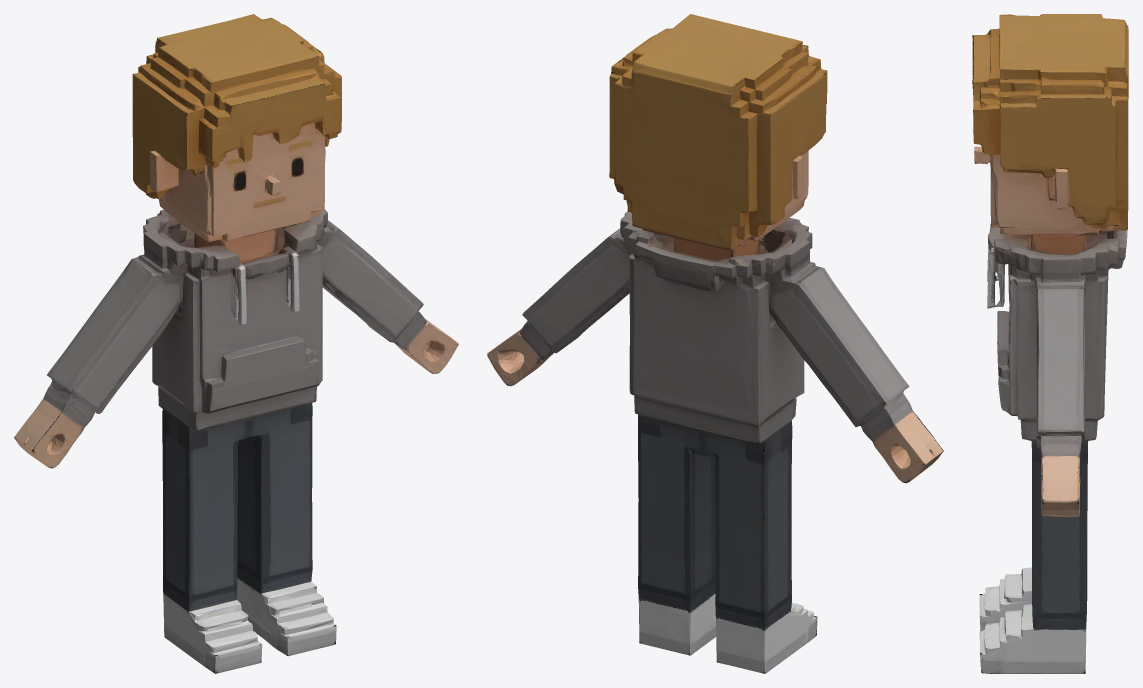
File: avatar-cristian.glb
3 views of the same model, side by side, from view 1: azimuth 30°, elevation 25°; view 2: azimuth 150°, elevation 25°; view 3: azimuth 270°, elevation 25° (orthographic). The views are drawn at different scales.
Parts seen in each view (by area): view 1: Cristian_Avatar; view 2: Cristian_Avatar; view 3: Cristian_Avatar.
Part boxes in pixels (x1,y1,x2,y2): Cristian_Avatar: (14,14,458,673); Cristian_Avatar: (487,14,943,673); Cristian_Avatar: (972,14,1128,673).
Bounding box in the file's own units: 1.34 × 1.75 × 0.4125.
1 material, 1 textured.
